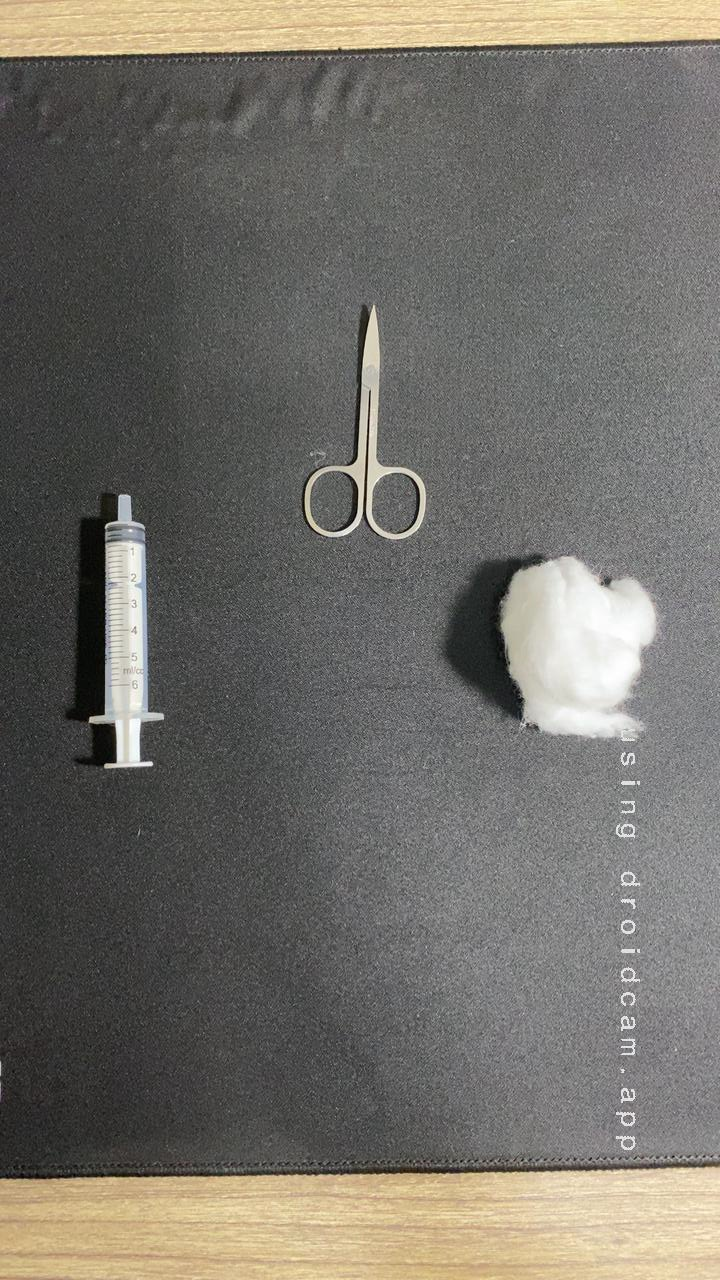cotton: (464, 532, 692, 757)
scissor: (279, 293, 445, 551)
syringe: (51, 483, 194, 783)
